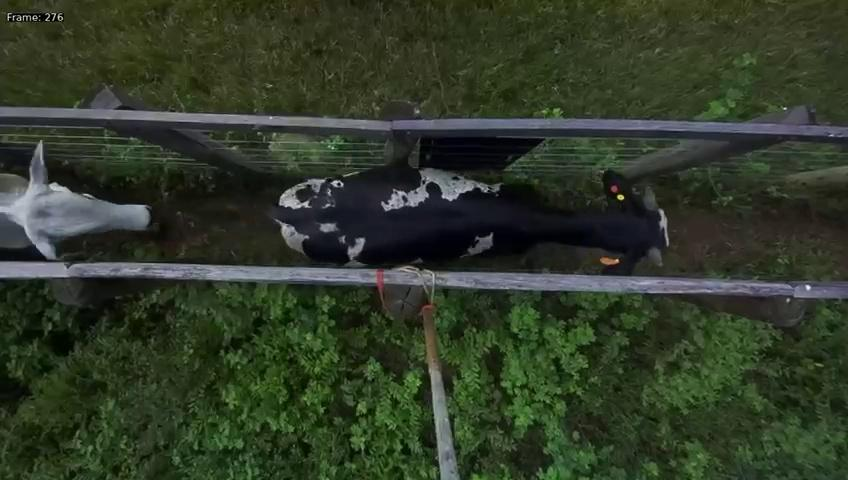cattle: (263, 149, 689, 279)
